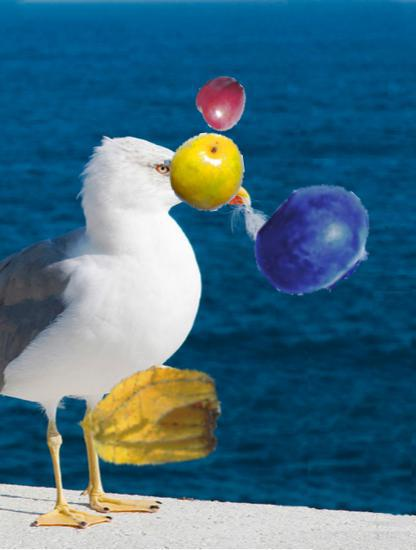Carambula: (141, 360, 195, 414)
Cherry: (196, 77, 248, 129)
Huckleberry: (254, 180, 378, 304)
Maracuja: (166, 133, 245, 212)
Physalis: (77, 345, 223, 491)
